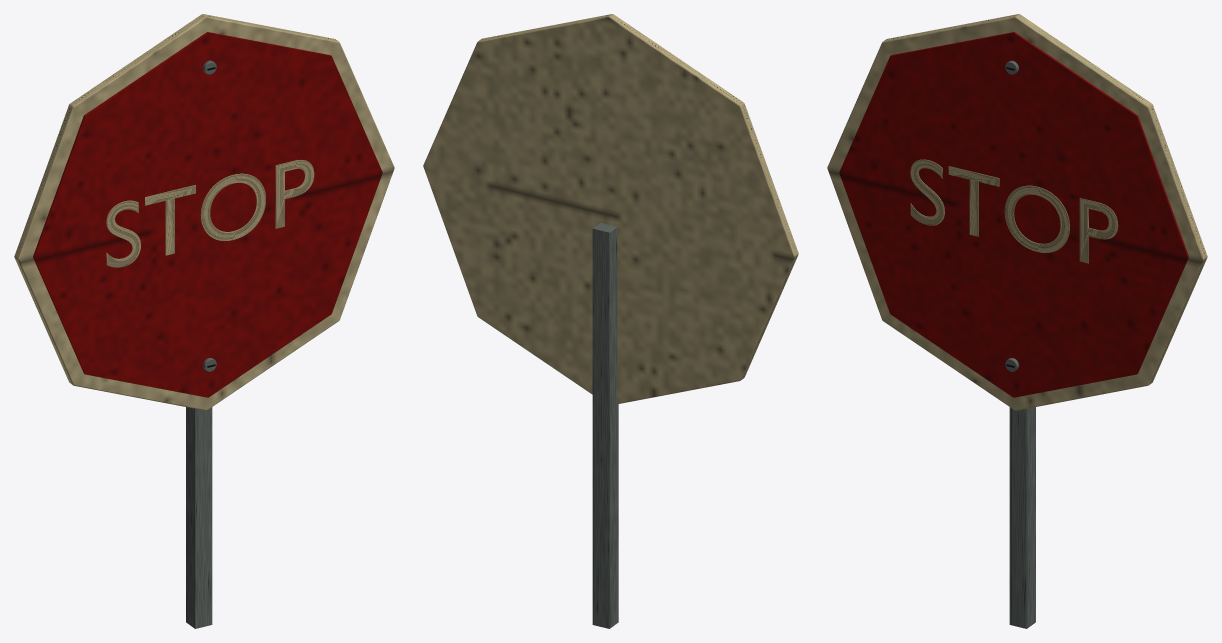
File: icon.glb
3 renders of one model, left to right at view 1: azimuth 30°, elevation 25°; view 2: azimuth 150°, elevation 25°; view 3: azimuth 330°, elevation 25°, orthographic.
Visible parts, largest first — view 1: Red enamel face, Octagonal metal plate, Galvanized post, Stop lettering; view 2: Octagonal metal plate, Galvanized post; view 3: Red enamel face, Octagonal metal plate, Galvanized post, Stop lettering.
Part boxes in pixels (left/top/right/bottom): Red enamel face: left=33, top=32, right=382, bottom=397; Octagonal metal plate: left=14, top=14, right=394, bottom=410; Galvanized post: left=186, top=407, right=212, bottom=628; Stop lettering: left=106, top=160, right=314, bottom=267; Octagonal metal plate: left=423, top=14, right=798, bottom=403; Galvanized post: left=592, top=223, right=618, bottom=628; Red enamel face: left=839, top=32, right=1188, bottom=397; Octagonal metal plate: left=827, top=14, right=1207, bottom=410; Galvanized post: left=1009, top=407, right=1035, bottom=628; Stop lettering: left=910, top=159, right=1118, bottom=263.
Bounding box in the file's own units: 1.54 × 2.4 × 0.1241.
Materials: 4 (4 with a texture image).
